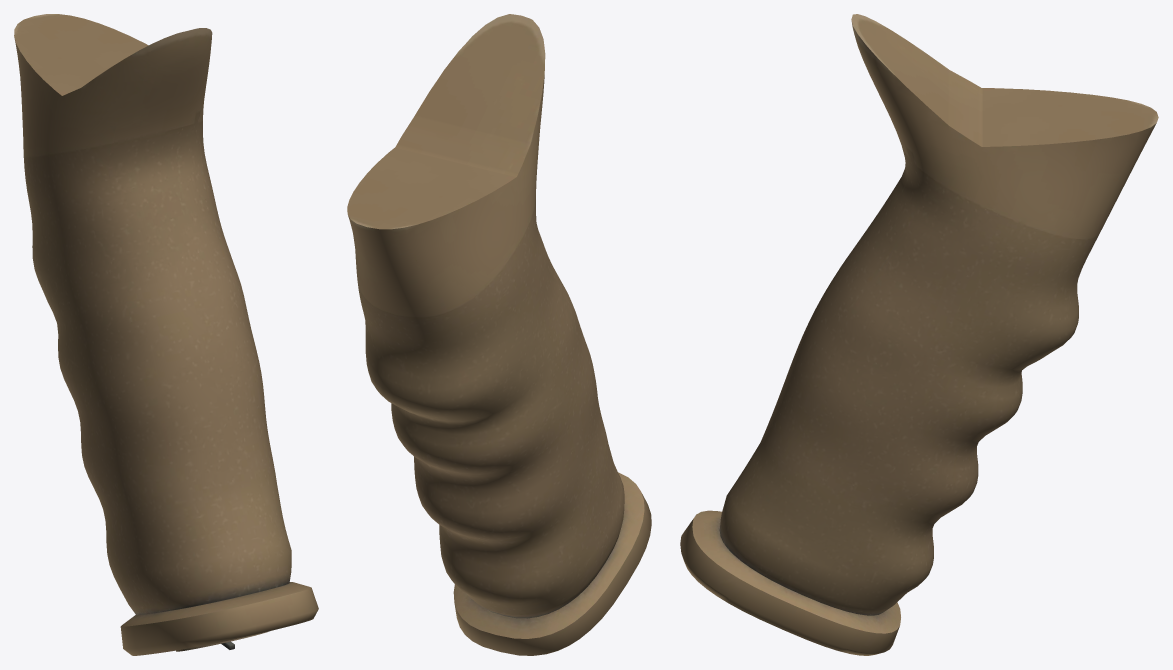
File: punho_cavas_tan.glb
3 views of the same model, side by side, from view 1: azimuth 30°, elevation 25°; view 2: azimuth 150°, elevation 25°; view 3: azimuth 270°, elevation 25° (orthographic).
Visible parts, largest first — view 1: punho_cavas_tan_punho; view 2: punho_cavas_tan_punho; view 3: punho_cavas_tan_punho.
Boxes of the visible parts, bbox=[...] form: punho_cavas_tan_punho: bbox=[14, 14, 318, 655]; punho_cavas_tan_punho: bbox=[347, 14, 651, 655]; punho_cavas_tan_punho: bbox=[680, 14, 1158, 655].
Size of the model in its own units: 0.0321 by 0.1273 by 0.0889.
Materials: 1 (1 with a texture image).
